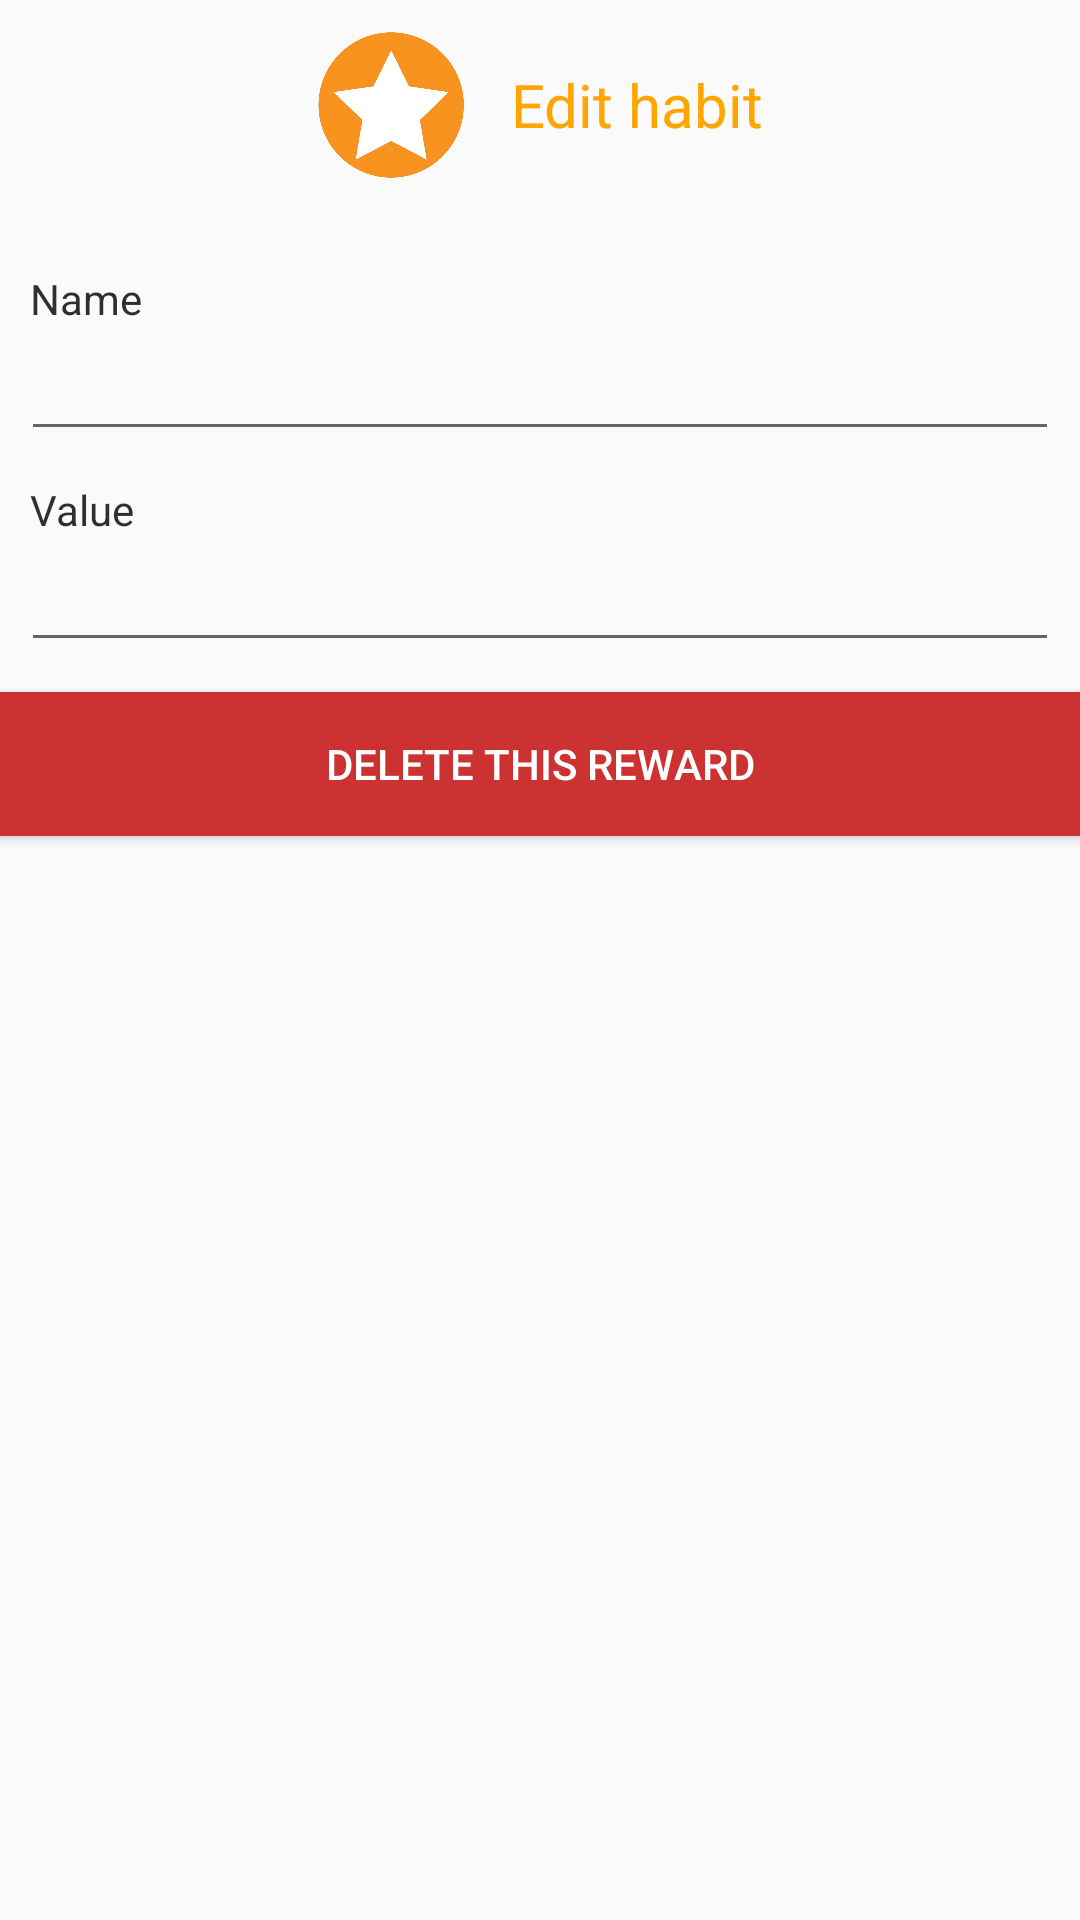

Named icons in this screenshot (1080 x 1920) and their bounding boxes, (x1, y1, x2, y2):
reward: (318, 32, 464, 178)
